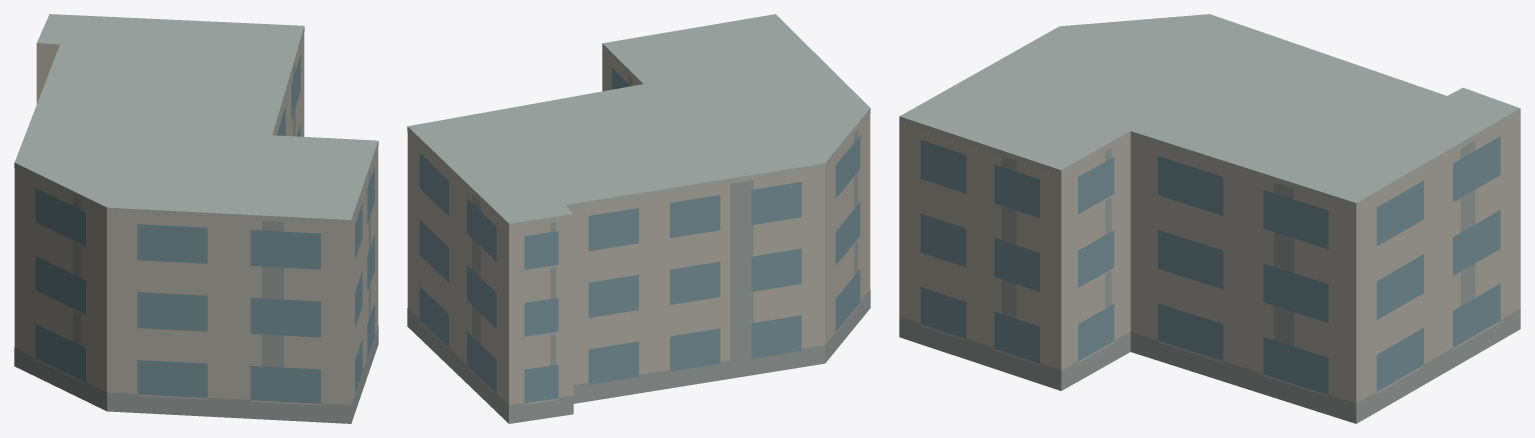
Rendered from survey-upis-32738435.glb.
The picture shows the model from 3 angles, left to right: view 1: azimuth 30°, elevation 25°; view 2: azimuth 150°, elevation 25°; view 3: azimuth 270°, elevation 25°; orthographic projection. The views are drawn at different scales.
Visible parts, largest first — view 1: survey-upis-32738435.tmp; view 2: survey-upis-32738435.tmp; view 3: survey-upis-32738435.tmp.
Part boxes in pixels (bbox=[...]): survey-upis-32738435.tmp: bbox=[14, 14, 378, 423]; survey-upis-32738435.tmp: bbox=[407, 14, 870, 423]; survey-upis-32738435.tmp: bbox=[899, 14, 1520, 423].
Bounding box in the file's own units: 16.81 × 9.15 × 23.33.
